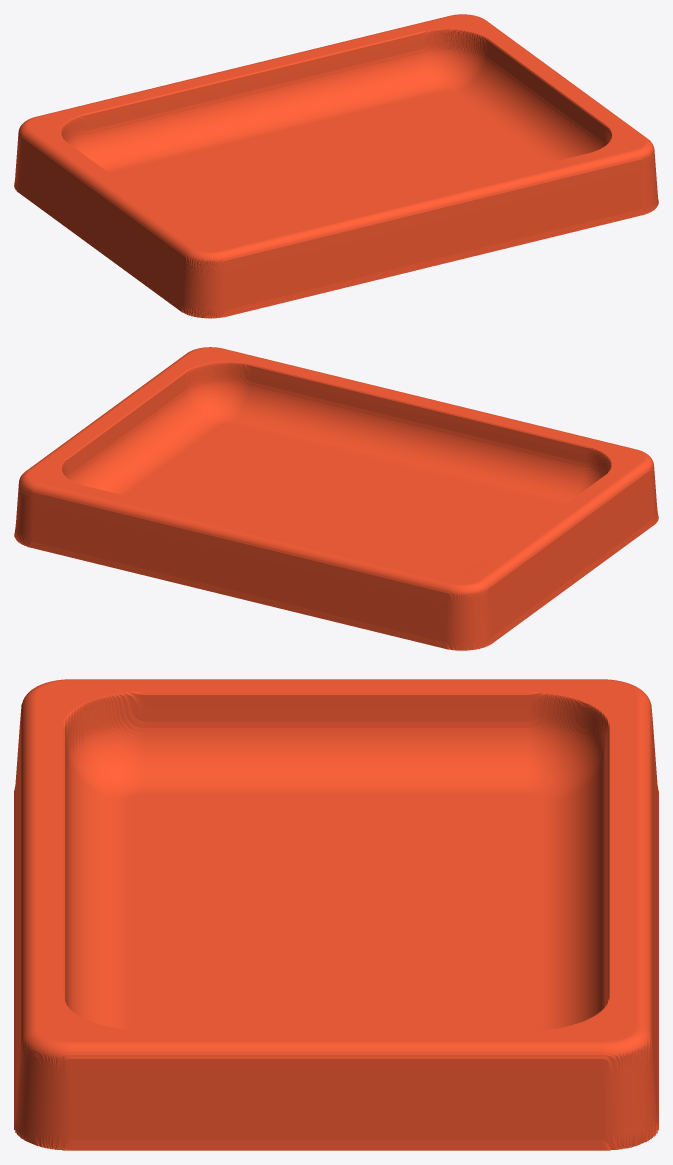
File: mold.glb
3 renders of one model, top to bottom at view 1: azimuth 30°, elevation 25°; view 2: azimuth 150°, elevation 25°; view 3: azimuth 270°, elevation 25°, orthographic. The views are drawn at different scales.
Parts seen in each view (by area): view 1: geometry_0; view 2: geometry_0; view 3: geometry_0.
Part boxes in pixels (x1,y1,x2,y2): geometry_0: (14, 14, 658, 318); geometry_0: (14, 347, 658, 650); geometry_0: (14, 679, 658, 1150).
Size of the model in its own units: 0.1435 by 0.0175 by 0.1029.
